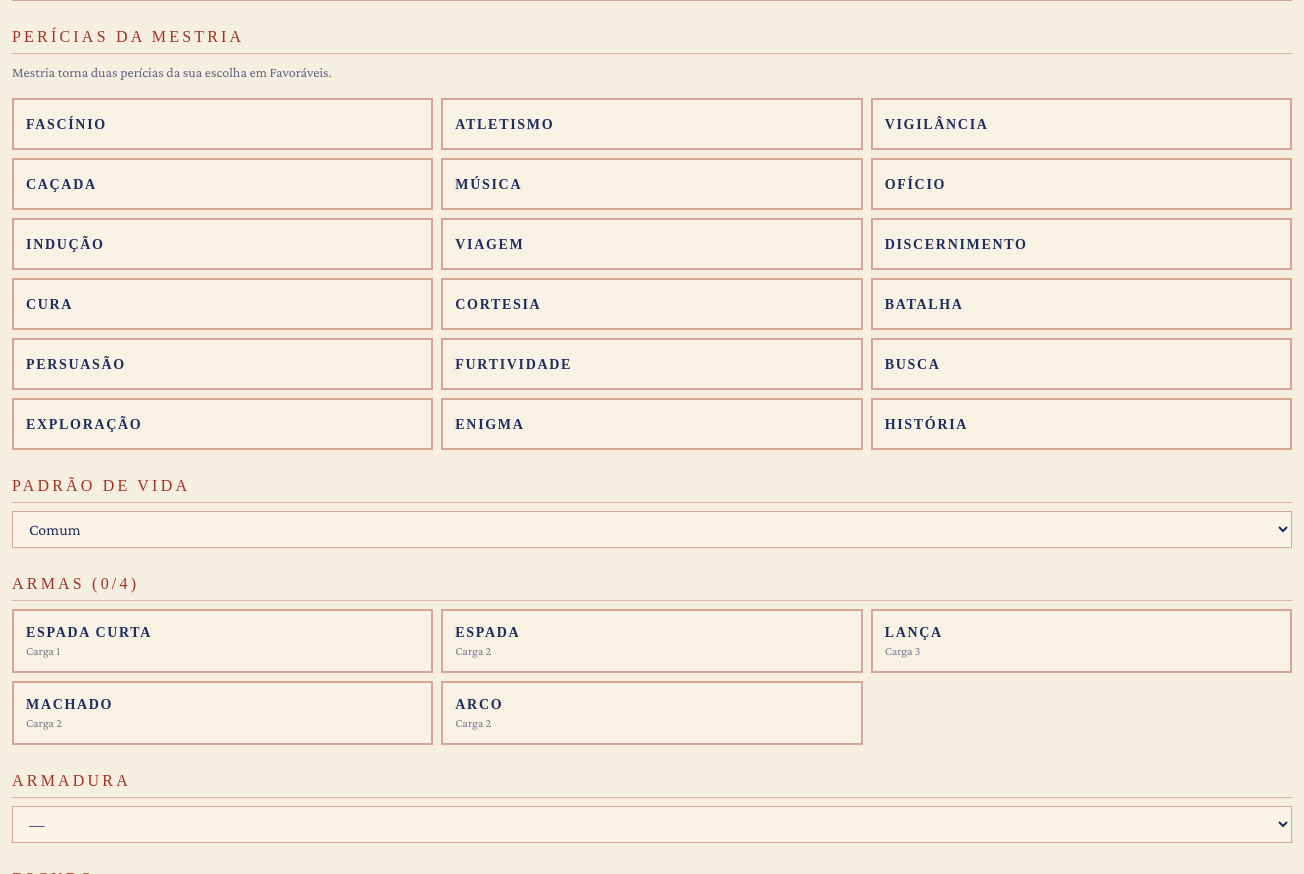
Test: StepCalling · mastery skill picker › persists a 2-skill mastery selection after two clicks
(page scrolled)
What coordinates should you click on to do the following:
click the button "Exploração"
I would click on:
 (84, 424)
Its box is [12, 398, 433, 450].
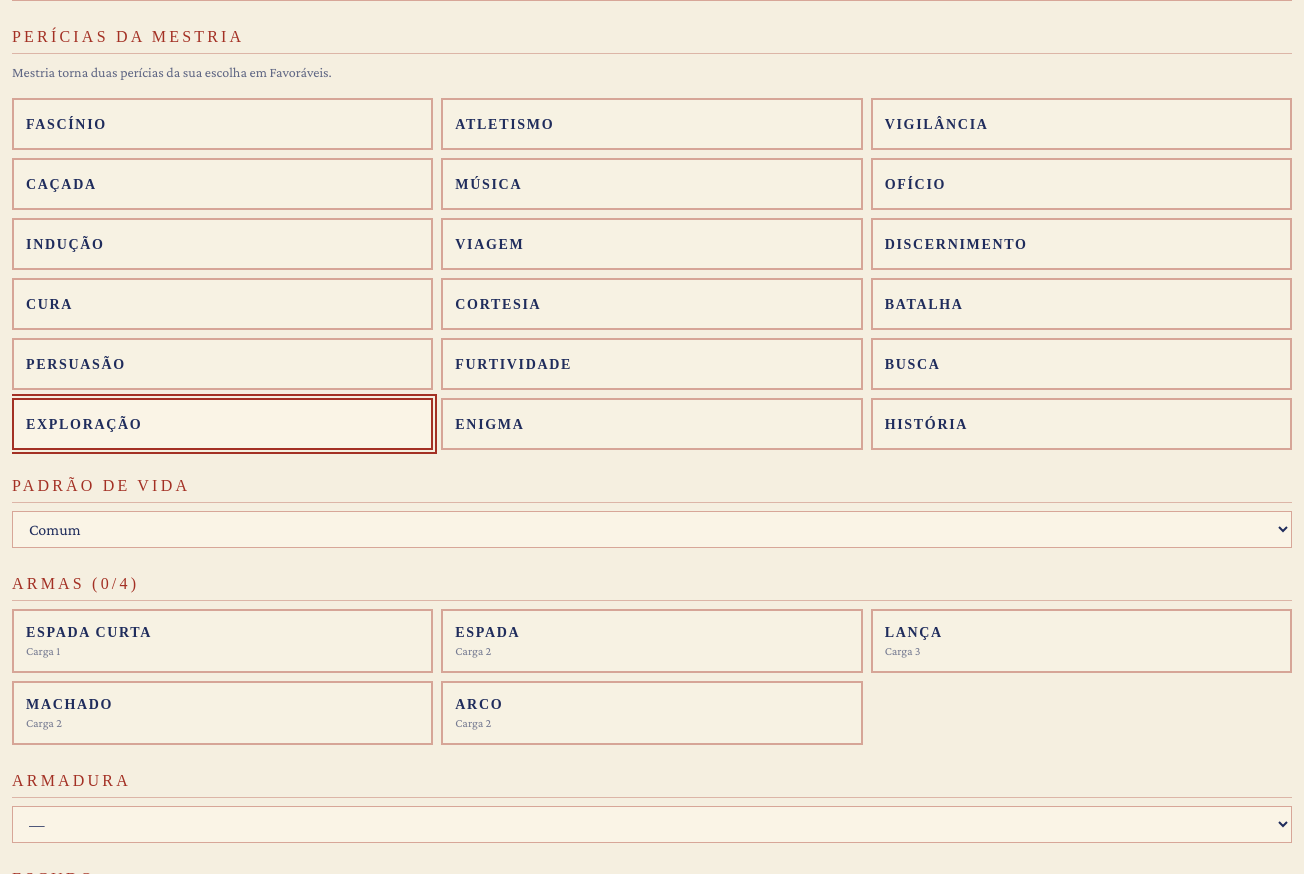
What coordinates should you click on to do the following:
click the button "Cura"
I would click on:
 (50, 304)
Its box is [12, 278, 433, 330].
(page scrolled)
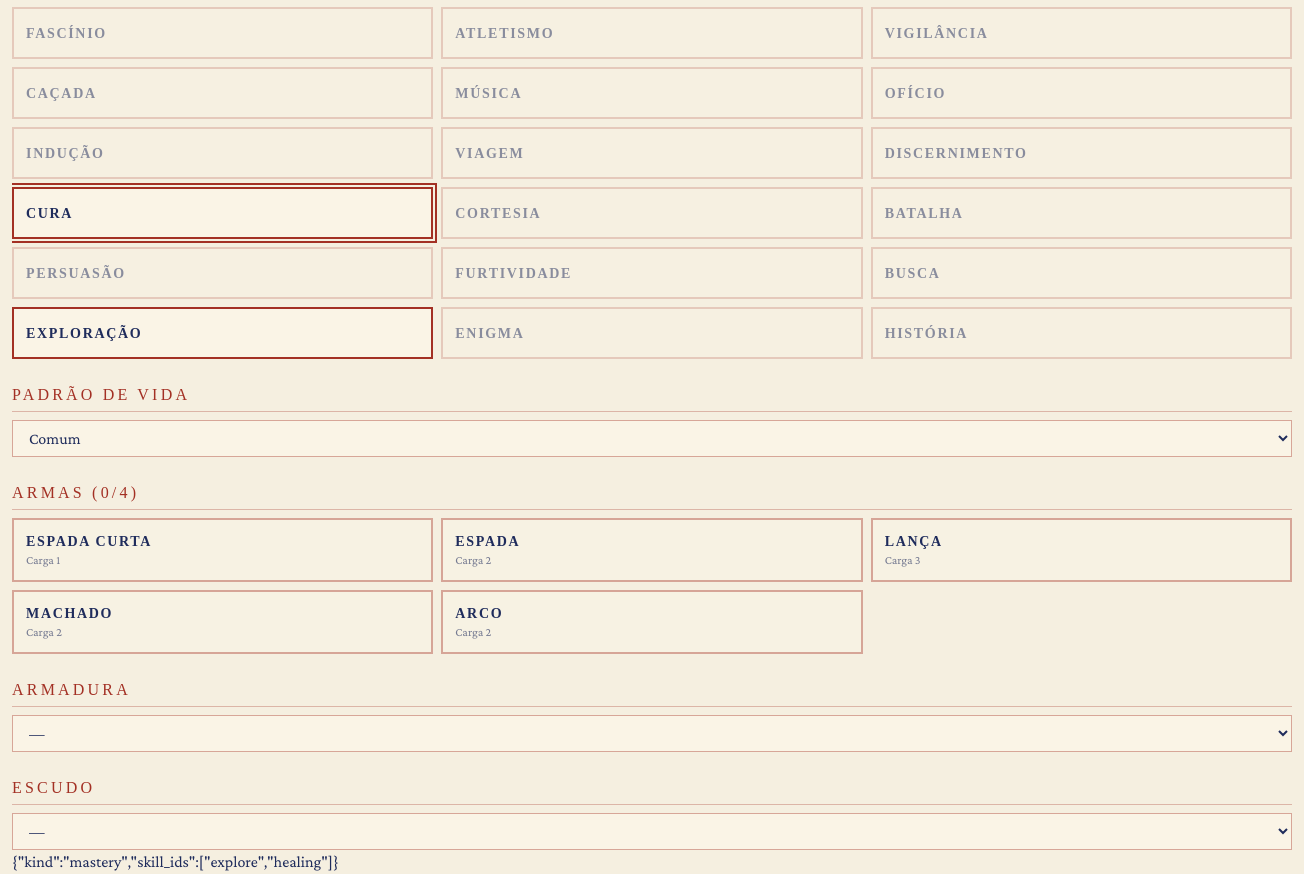
Check: the text with test id "selection-json" shows "\"kind\":\"mastery\"", box [12, 853, 339, 870]
Check: the text with test id "selection-json" shows "\"explore\"", box [12, 853, 339, 870]
Check: the text with test id "selection-json" shows "\"healing\"", box [12, 853, 339, 870]
